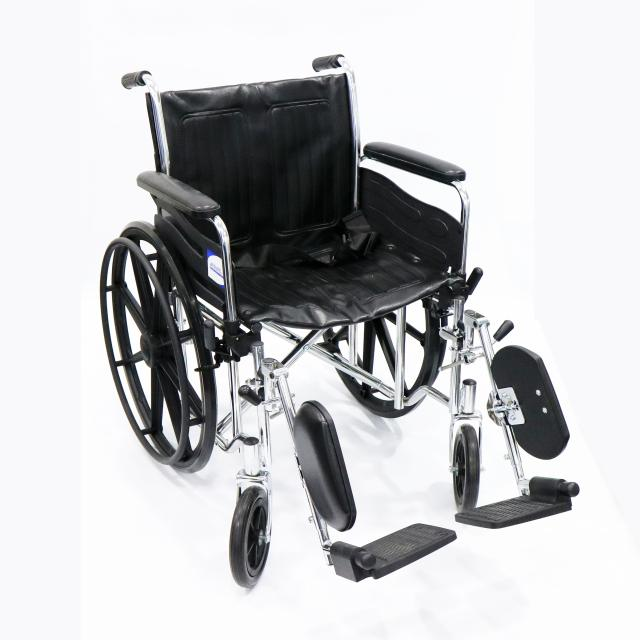wheelchair: (79, 32, 593, 602)
